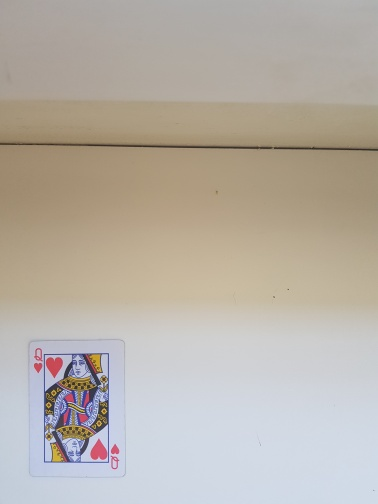queen: (27, 337, 127, 478)
